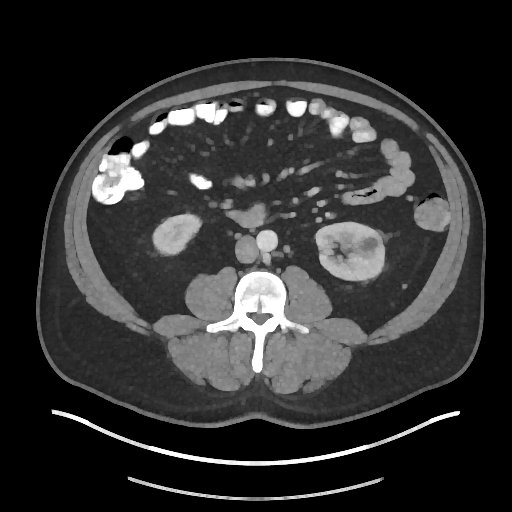Lesion: (354, 232, 383, 258)
